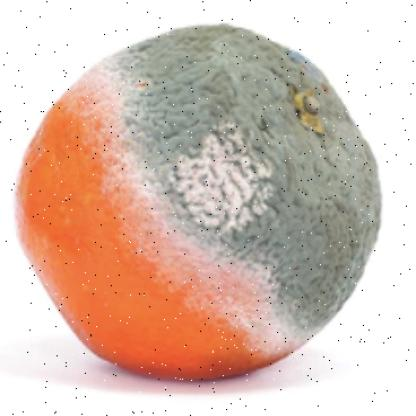rotten: (17, 23, 383, 384)
